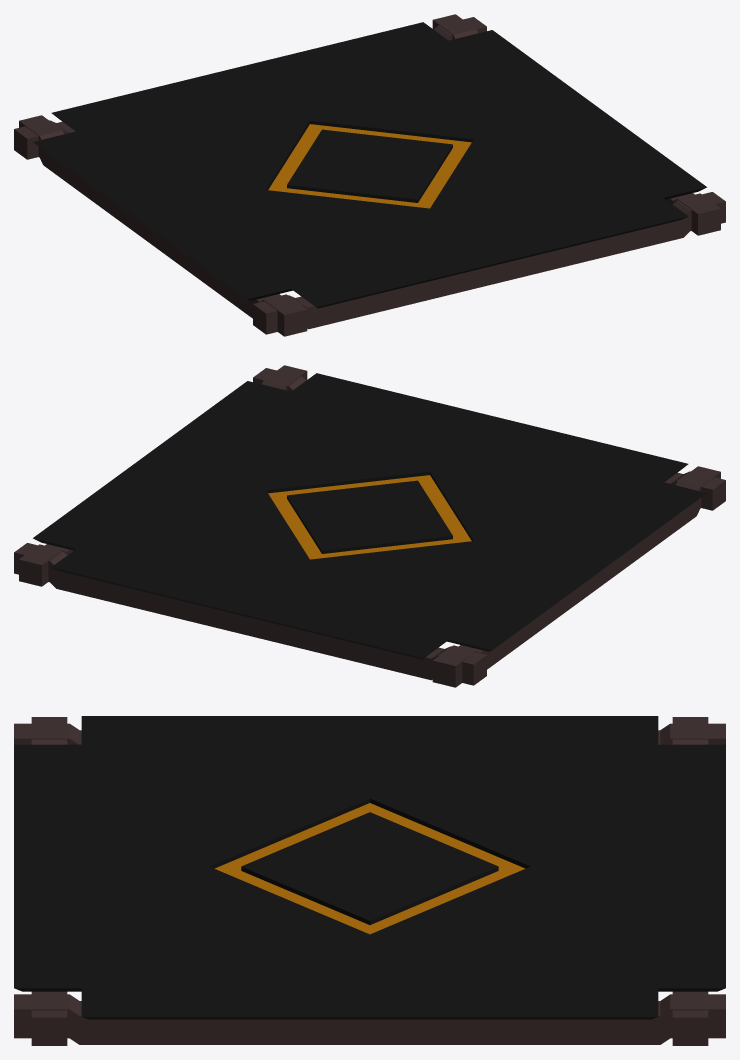
Rendered from Platform.fbx.
3 views of the same model, one above another, from view 1: azimuth 30°, elevation 25°; view 2: azimuth 150°, elevation 25°; view 3: azimuth 270°, elevation 25° (orthographic). The views are drawn at different scales.
Visible parts, largest first — view 1: Platform; view 2: Platform; view 3: Platform.
Boxes of the visible parts, x1,y1,x2,y2 form: Platform: [14, 14, 725, 336]; Platform: [14, 365, 725, 687]; Platform: [14, 716, 725, 1045].
Bounding box in the file's own units: 200 × 11.07 × 200.
